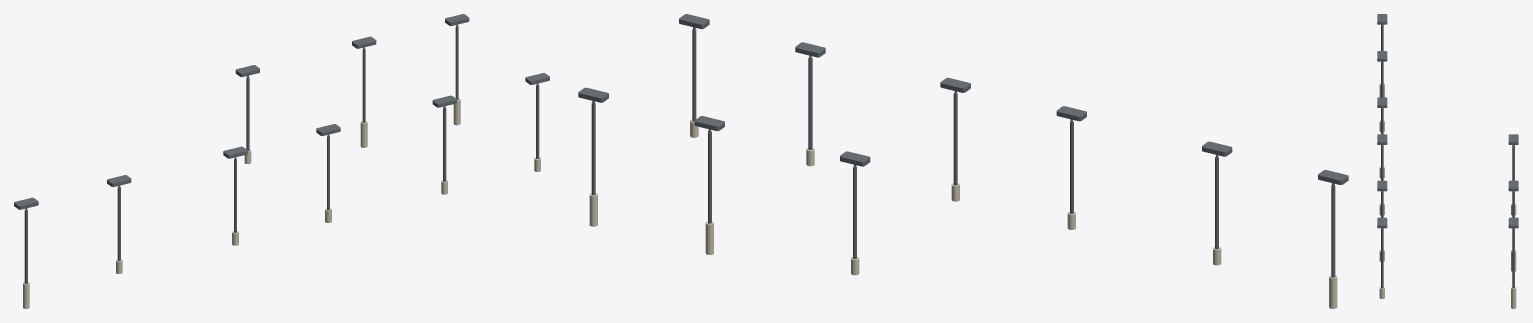
3 views of the same model, side by side, from view 1: azimuth 30°, elevation 25°; view 2: azimuth 150°, elevation 25°; view 3: azimuth 270°, elevation 25° (orthographic). The views are drawn at different scales.
Visible parts, largest first — view 1: buildings_s_-12_-2_Dark_Metal, buildings_s_-12_-2_Warm_Limestone; view 2: buildings_s_-12_-2_Dark_Metal, buildings_s_-12_-2_Warm_Limestone; view 3: buildings_s_-12_-2_Dark_Metal, buildings_s_-12_-2_Warm_Limestone.
Boxes of the visible parts, x1,y1,x2,y2 form: buildings_s_-12_-2_Dark_Metal: [14, 14, 549, 283]; buildings_s_-12_-2_Warm_Limestone: [23, 98, 540, 308]; buildings_s_-12_-2_Dark_Metal: [578, 14, 1348, 277]; buildings_s_-12_-2_Warm_Limestone: [589, 119, 1337, 308]; buildings_s_-12_-2_Dark_Metal: [1377, 14, 1518, 288]; buildings_s_-12_-2_Warm_Limestone: [1379, 83, 1516, 308].
Size of the model in its own units: 45.7 by 8.68 by 12.9.
